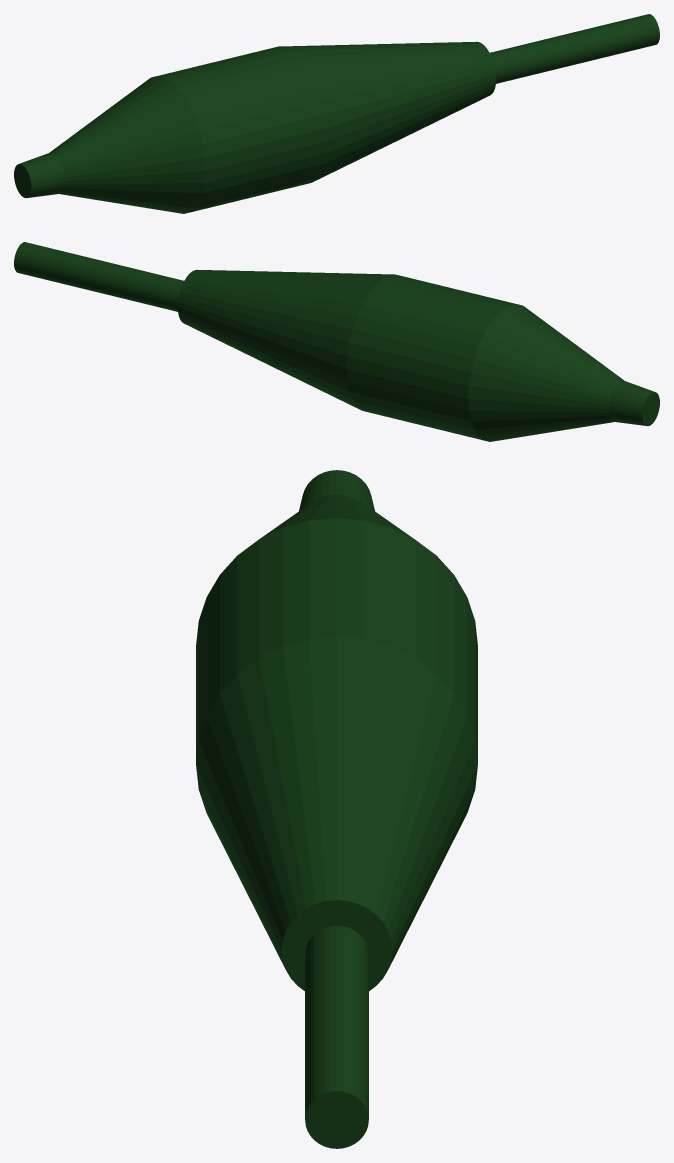
The model's file is Rocket.fbx.
3 renders of one model, top to bottom at view 1: azimuth 30°, elevation 25°; view 2: azimuth 150°, elevation 25°; view 3: azimuth 270°, elevation 25°, orthographic. The views are drawn at different scales.
Visible parts, largest first — view 1: Rocket; view 2: Rocket; view 3: Rocket.
Part boxes in pixels (left/top/right/bottom): Rocket: left=14, top=14, right=659, bottom=213; Rocket: left=14, top=242, right=659, bottom=441; Rocket: left=196, top=470, right=477, bottom=1148.
Size of the model in its own units: 137 by 26.56 by 26.56.
